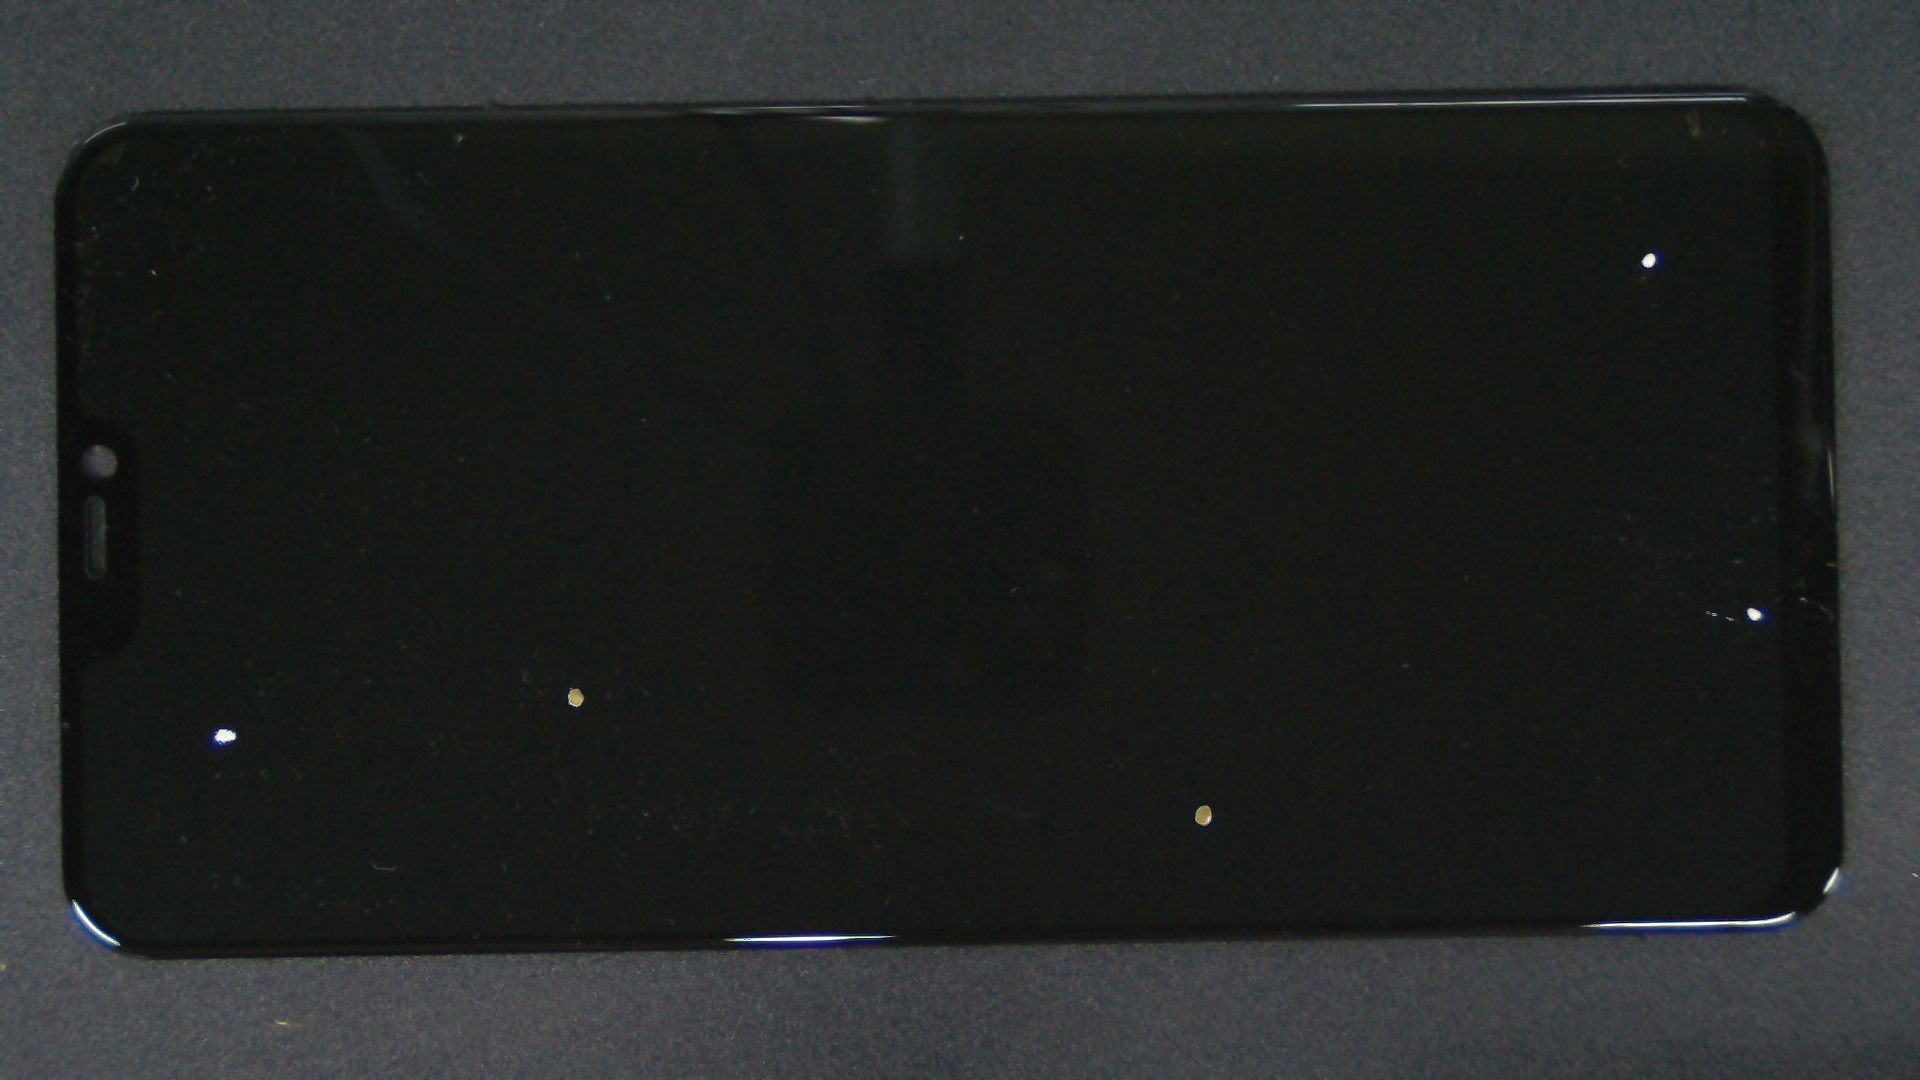oil: (599, 401, 1796, 1080), (876, 302, 1920, 910), (285, 343, 853, 1030), (824, 125, 1920, 378), (109, 363, 324, 1080)
